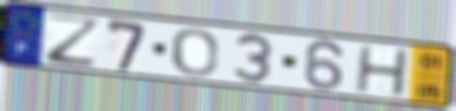3: (231, 31, 276, 85)
6: (303, 38, 347, 92)
7: (107, 16, 147, 73)
H: (352, 44, 412, 99)
O: (169, 27, 220, 78)
Z: (44, 12, 104, 70)
